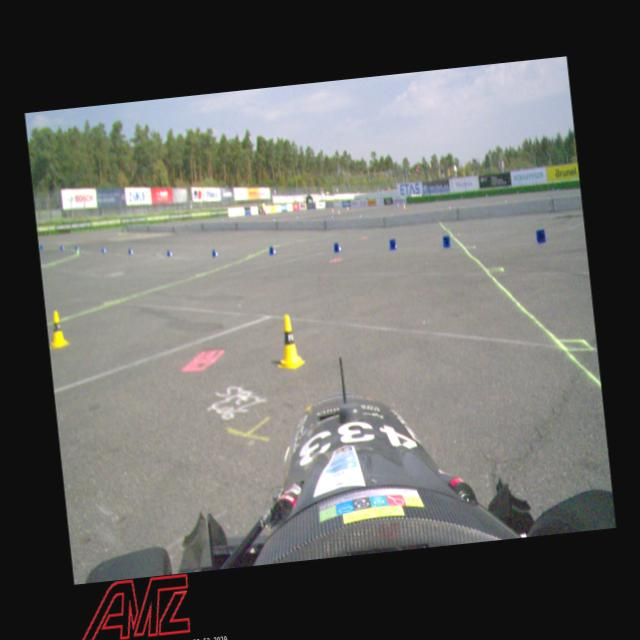blue_cone: (388, 238, 398, 250), (332, 242, 342, 253), (268, 245, 276, 255), (210, 248, 218, 257), (165, 249, 173, 257), (127, 247, 134, 255), (100, 246, 108, 253)
yellow_cone: (272, 310, 305, 370), (45, 308, 70, 348)
